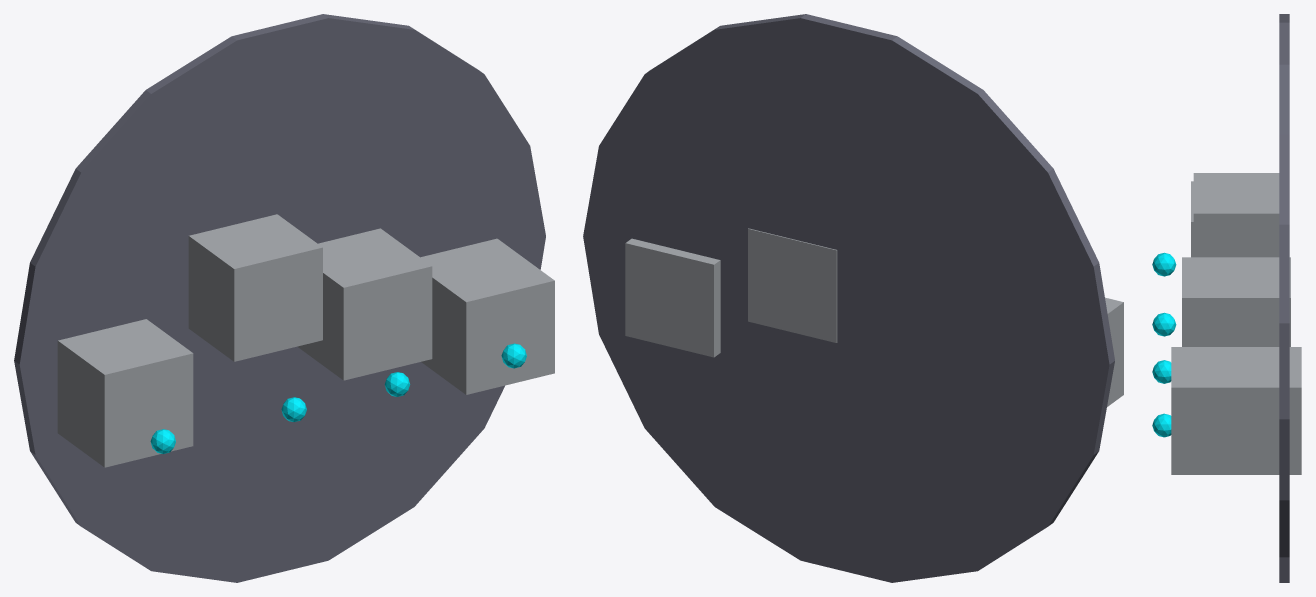
Rendered from 04_event_hazard_cluster.glb.
3 views of the same model, side by side, from view 1: azimuth 30°, elevation 25°; view 2: azimuth 150°, elevation 25°; view 3: azimuth 270°, elevation 25° (orthographic). The views are drawn at different scales.
Parts seen in each view (by area): view 1: scatter_base, tech_crate_1, tech_crate_0, tech_crate_3, tech_crate_2; view 2: scatter_base, tech_crate_3, tech_crate_2, tech_crate_0; view 3: tech_crate_3, tech_crate_2, tech_crate_1, scatter_base, status_light_0, status_light_1, status_light_2, status_light_3, tech_crate_0.
Boxes of the visible parts, <box> form: scatter_base: <box>14,14,545,582</box>; tech_crate_1: <box>188,214,322,361</box>; tech_crate_0: <box>57,319,193,467</box>; tech_crate_3: <box>420,238,554,394</box>; tech_crate_2: <box>297,228,432,380</box>; scatter_base: <box>583,14,1114,582</box>; tech_crate_3: <box>625,238,720,357</box>; tech_crate_2: <box>748,228,837,342</box>; tech_crate_0: <box>1105,297,1123,406</box>; tech_crate_3: <box>1171,347,1301,474</box>; tech_crate_2: <box>1182,257,1290,346</box>; tech_crate_1: <box>1193,173,1279,257</box>; scatter_base: <box>1279,14,1289,582</box>; status_light_0: <box>1152,252,1176,276</box>; status_light_1: <box>1152,312,1176,336</box>; status_light_2: <box>1152,360,1171,383</box>; status_light_3: <box>1152,413,1171,437</box>; tech_crate_0: <box>1191,181,1193,257</box>.
Bounding box in the file's own units: 1.9 × 1.87 × 0.4971.
